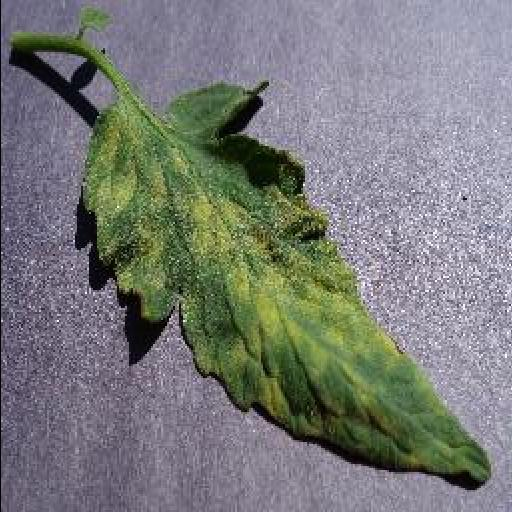disease_tomato: (77, 84, 491, 480)
